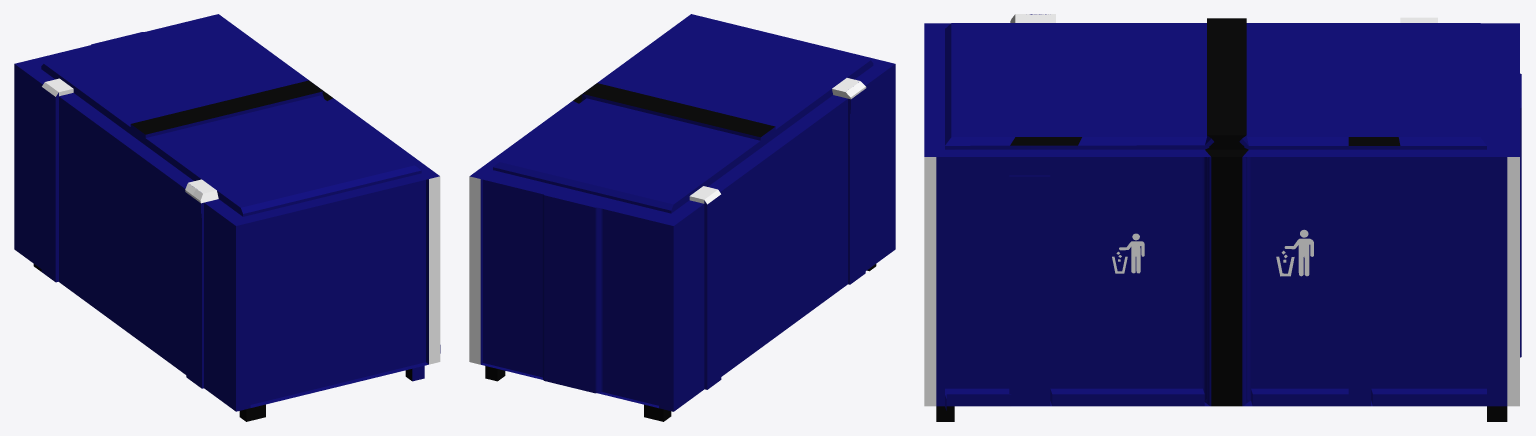
The model's file is DuzySmietnik.fbx.
3 renders of one model, left to right at view 1: azimuth 30°, elevation 25°; view 2: azimuth 150°, elevation 25°; view 3: azimuth 270°, elevation 25°, orthographic. The views are drawn at different scales.
Parts seen in each view (by area): view 1: Cube; view 2: Cube; view 3: Cube.
Boxes of the visible parts, x1,y1,x2,y2 form: Cube: (14,14,440,421); Cube: (469,14,895,421); Cube: (924,14,1521,421).
Bounding box in the file's own units: 334 × 316 × 596.
